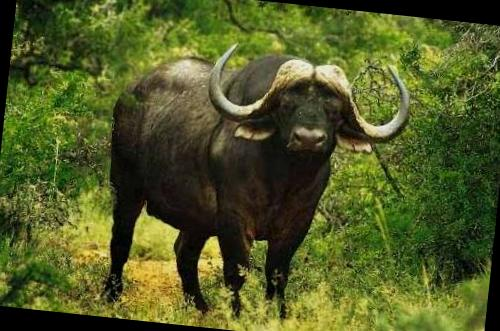Buffalo: (93, 9, 464, 331)
